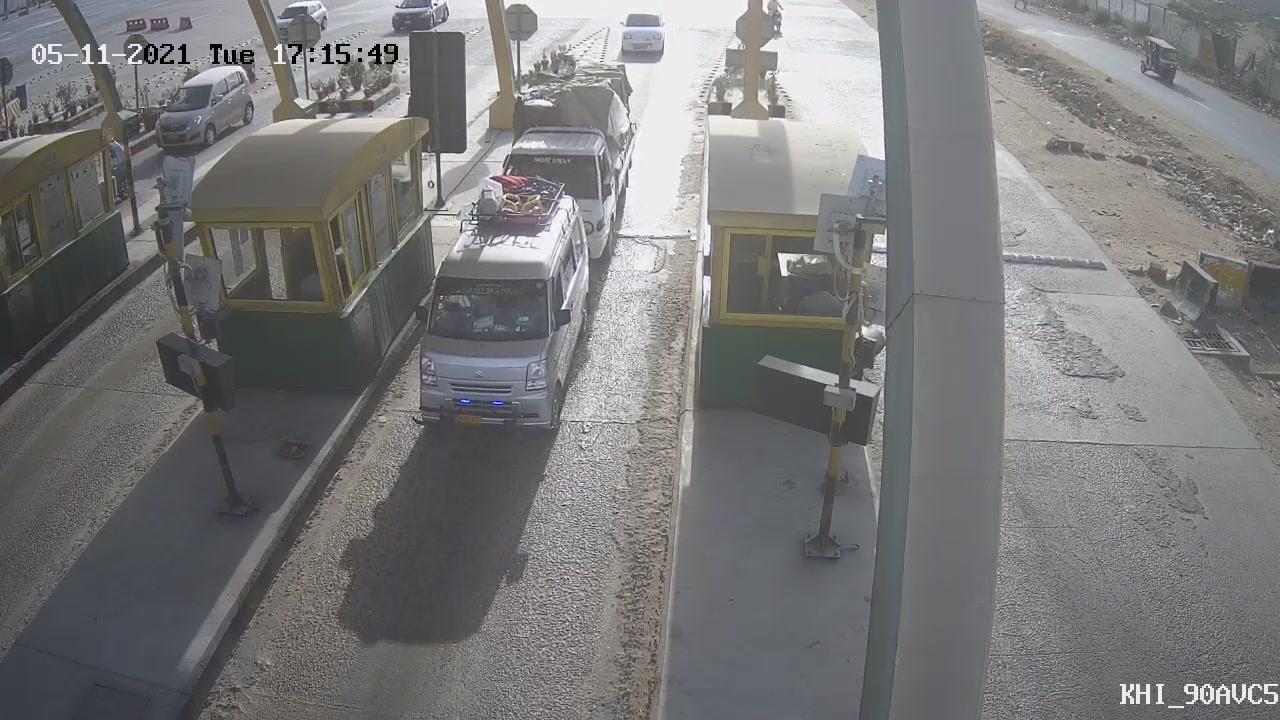F1: (408, 175, 605, 447)
